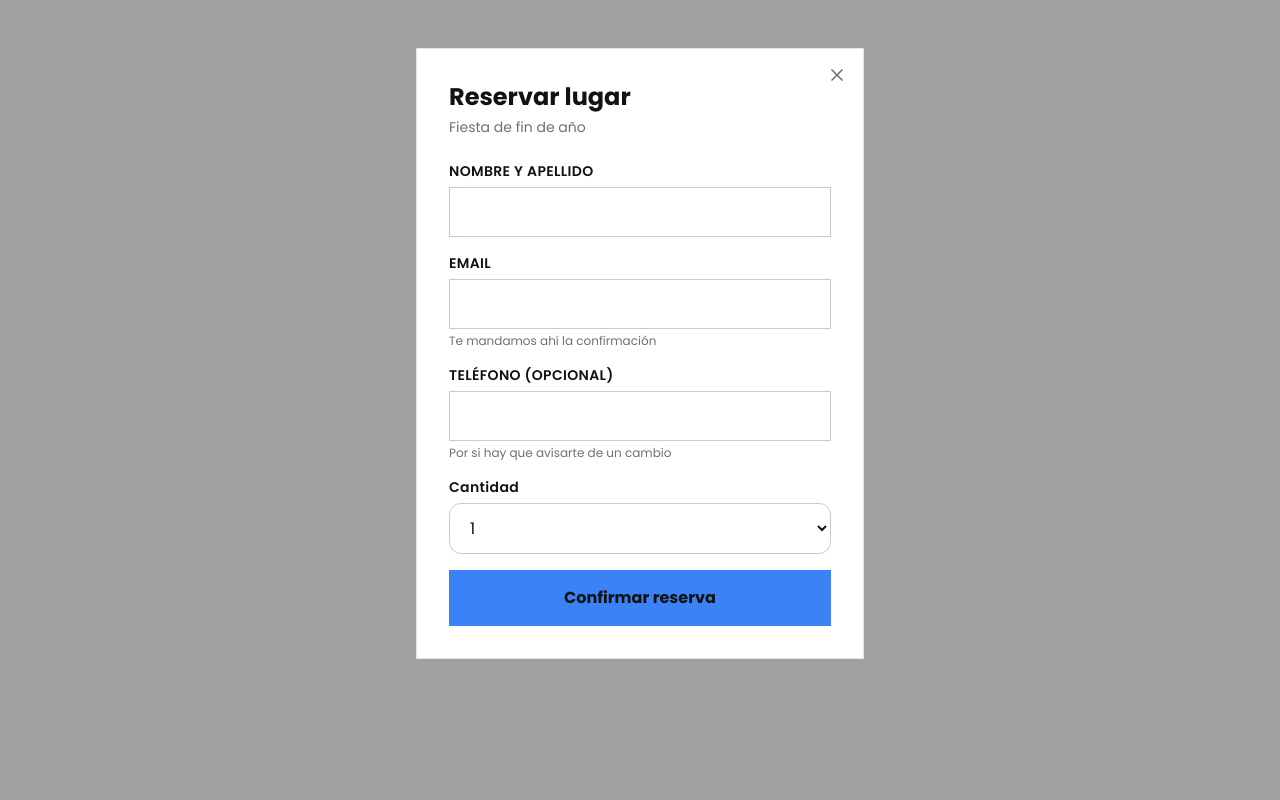
Scenario: ComprarEntradas › reserva sin costo › muestra el código sin redirigir a ningún lado
Type "Ana Gómez" into the field labelled "NOMBRE Y APELLIDO" at (640, 212), box x1=449 y1=187 x2=831 y2=237
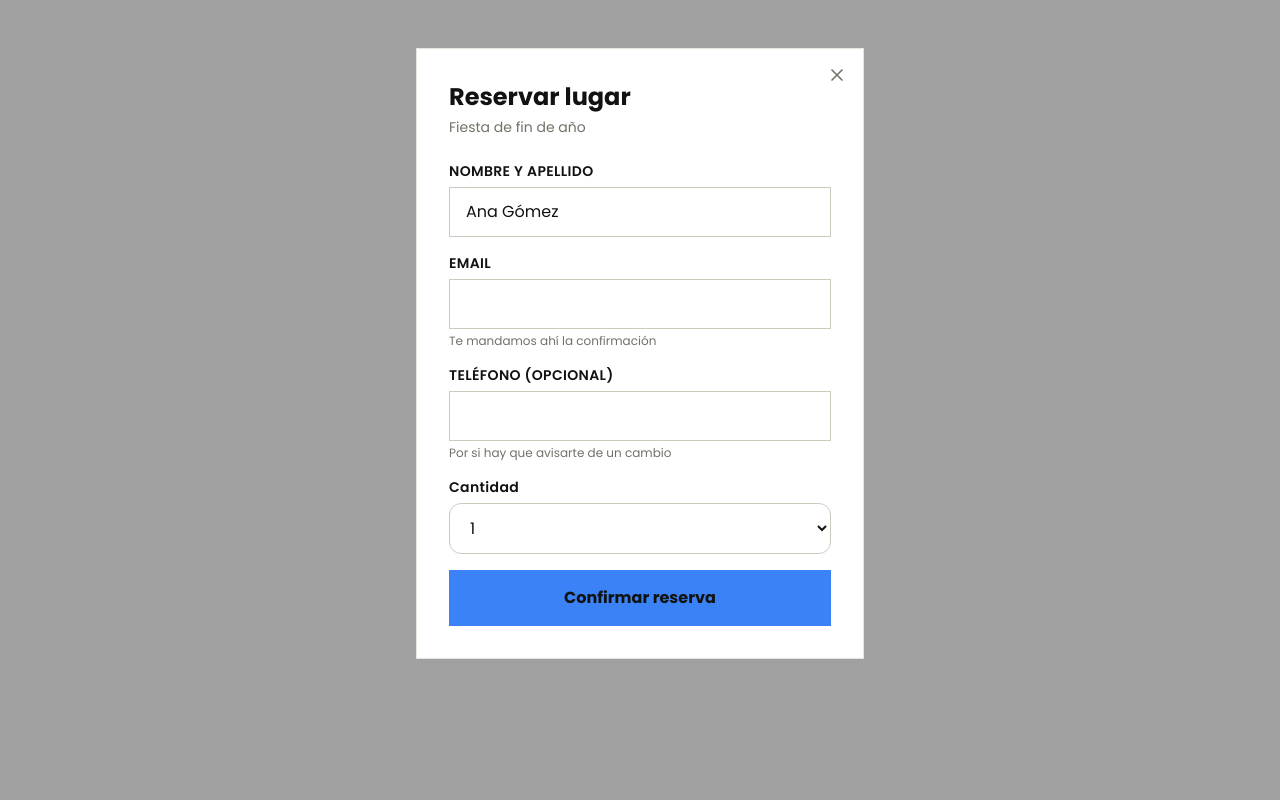
Type "ana@example.com" into the field labelled "EMAIL" at (640, 304), box x1=449 y1=279 x2=831 y2=329
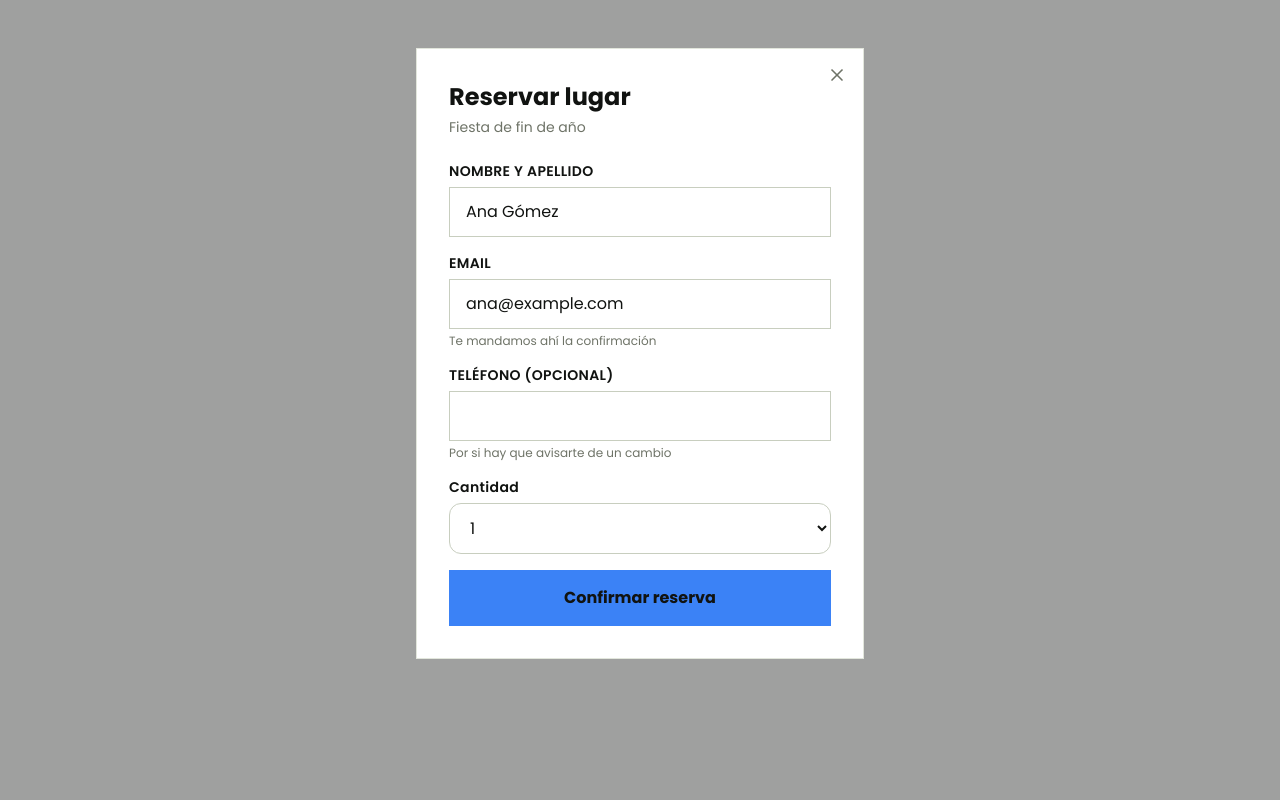
Type "1122334455" into the field labelled "TELÉFONO (OPCIONAL)" at (640, 416), box x1=449 y1=391 x2=831 y2=441
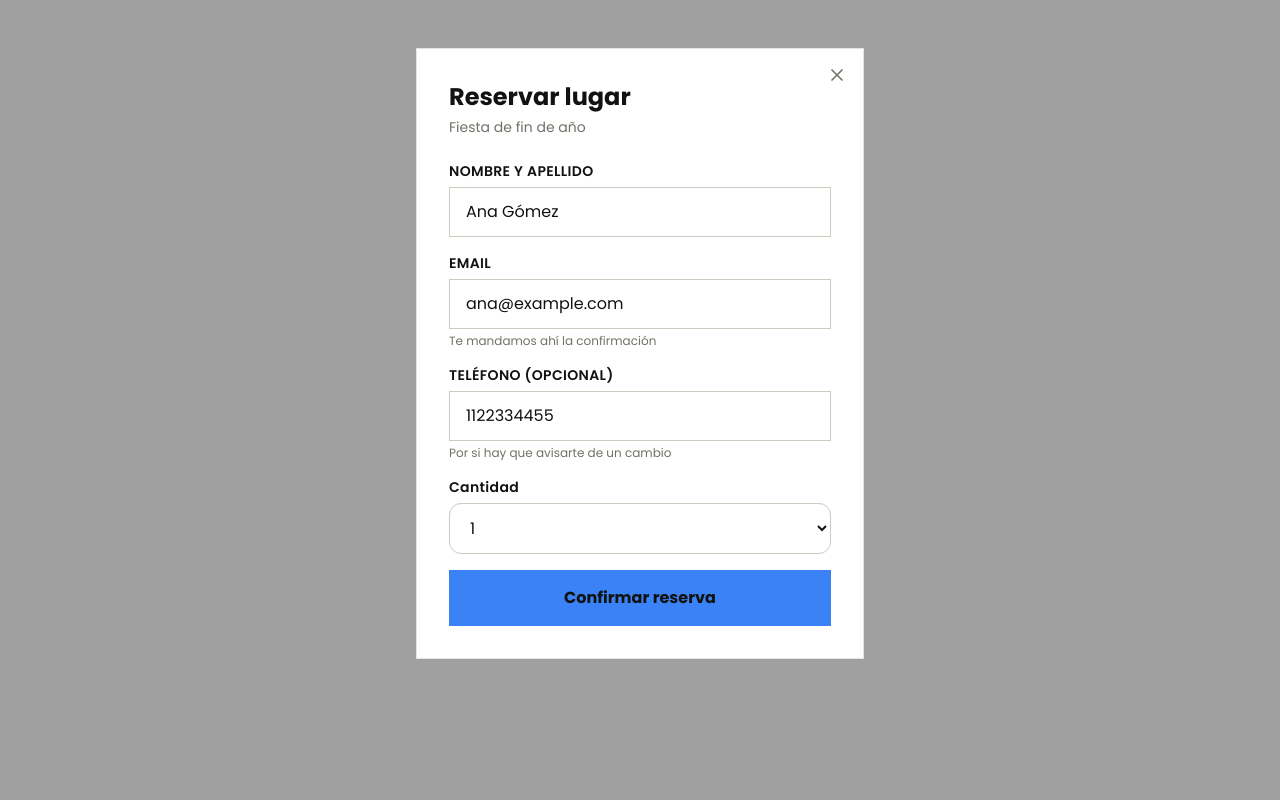
Click the button "Confirmar reserva" at (640, 598), box x1=449 y1=570 x2=831 y2=626
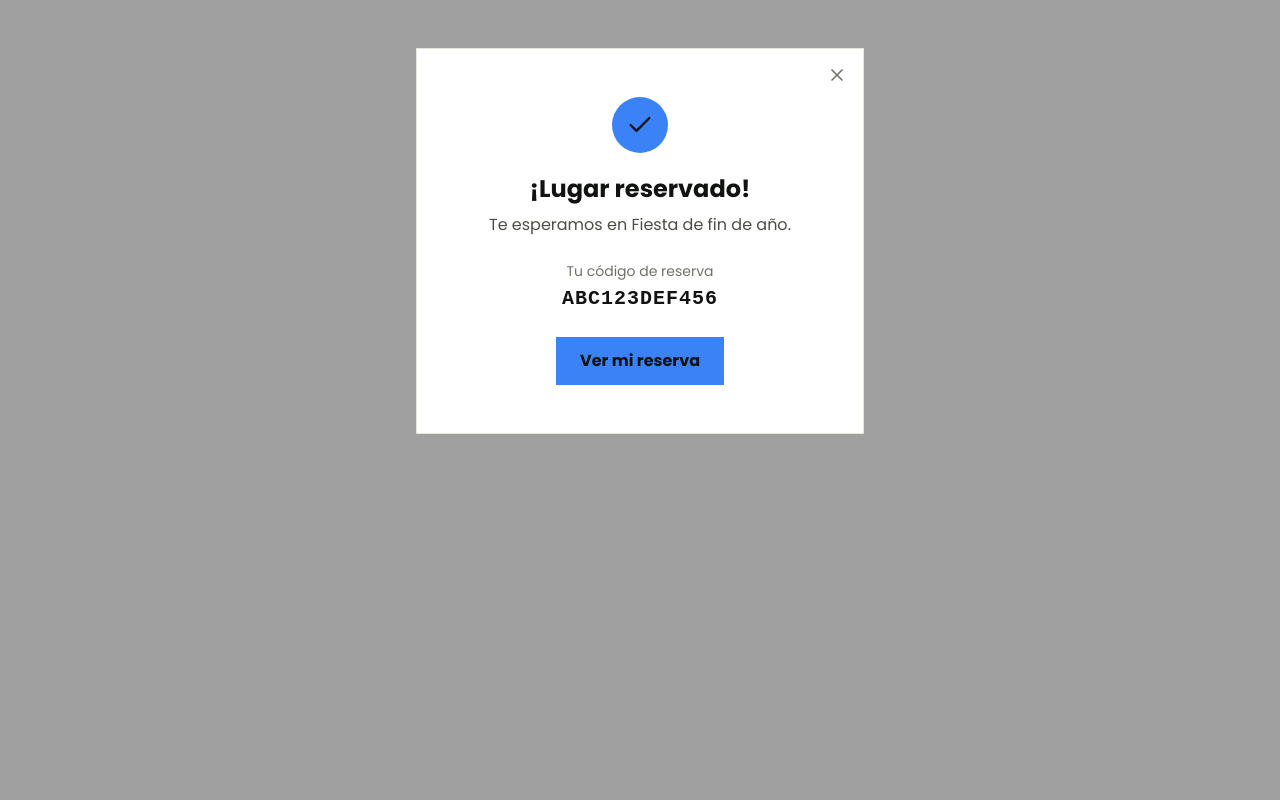
Result: the text "ABC123DEF456" is shown at x1=562 y1=287 x2=718 y2=310
